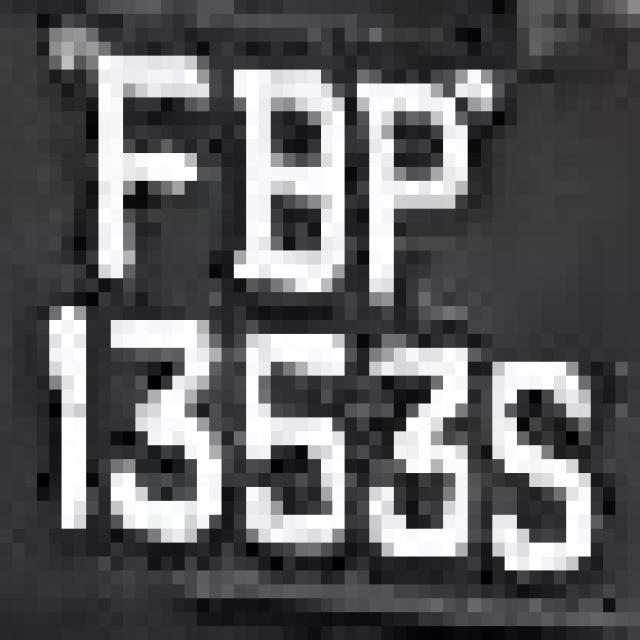1: (37, 278, 98, 570)
3: (123, 236, 234, 556), (345, 292, 480, 543)
5: (209, 320, 357, 543)
B: (209, 42, 357, 320)
F: (74, 14, 209, 320)
P: (357, 28, 492, 306)
S: (492, 278, 628, 598)
